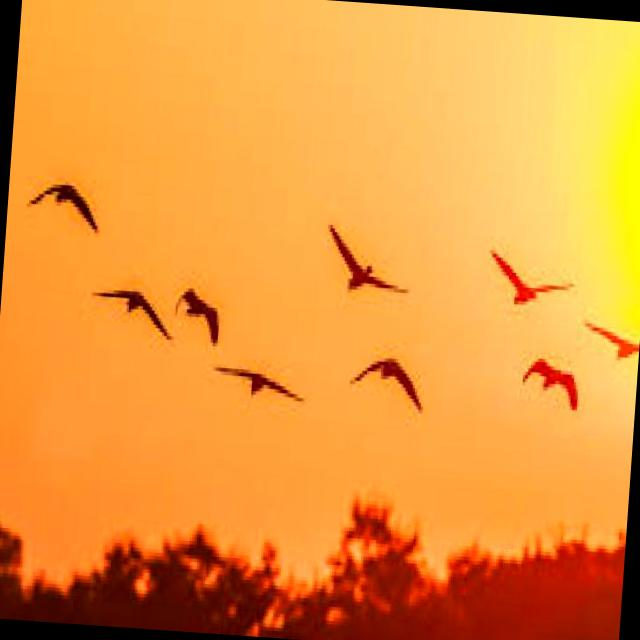bird: (474, 228, 583, 326), (78, 268, 176, 372), (316, 222, 413, 320), (328, 333, 438, 417), (204, 346, 311, 420), (22, 162, 112, 245), (167, 280, 240, 358), (522, 352, 590, 422)
